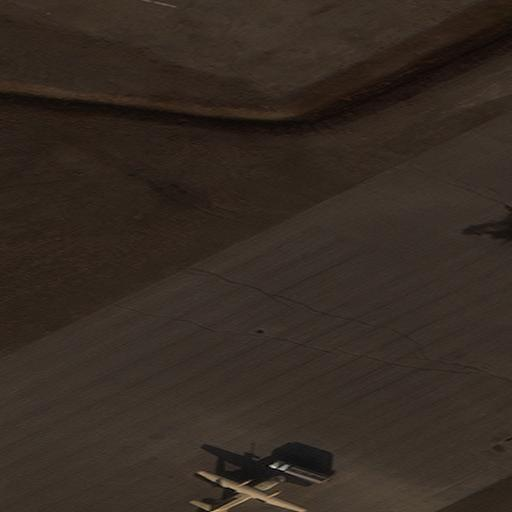Medium Civil Transport: (202, 470, 306, 511)
